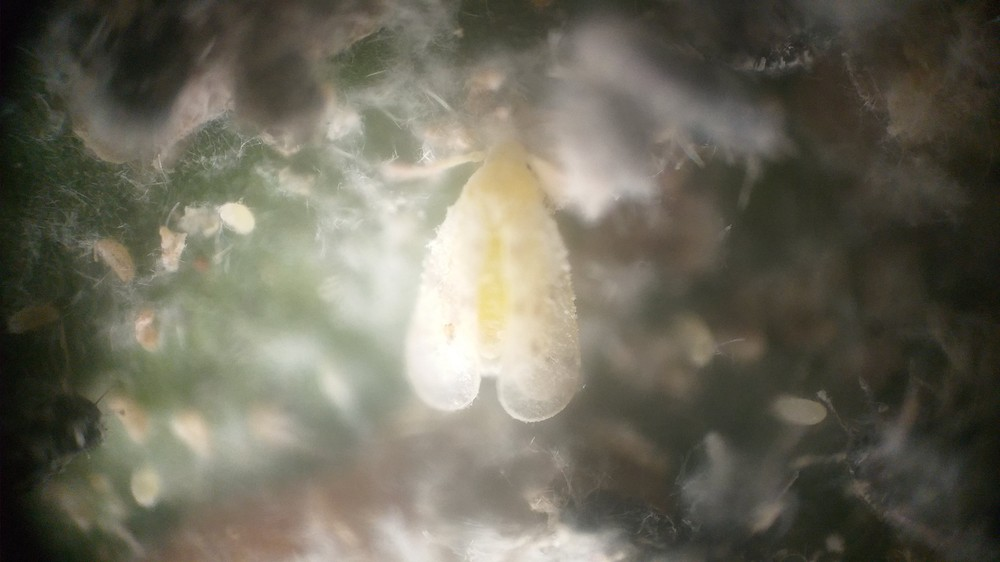Mosca Blanca: (371, 121, 621, 442)
